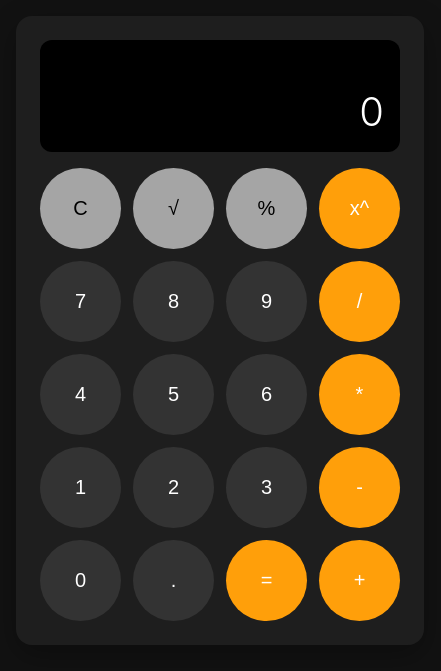
Test: Calculator › should show error message when backend rejects op
Click the button "5" at (174, 394), box left=133, top=354, right=214, bottom=435
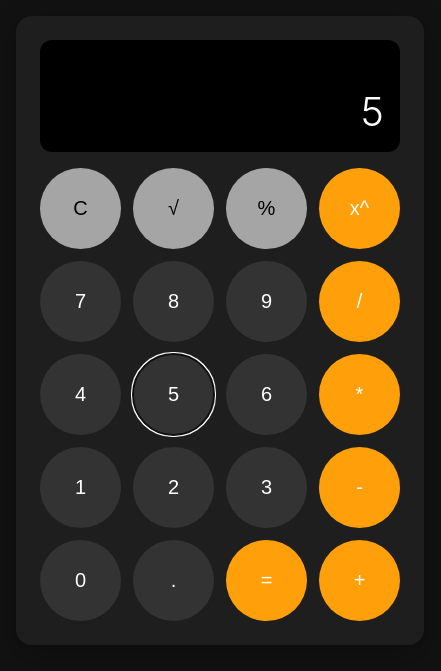
Click the button "/" at (360, 302), box left=319, top=261, right=400, bottom=342
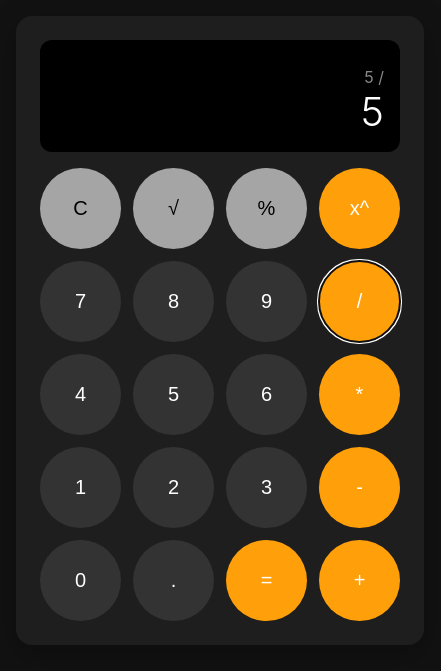
Click the button "0" at (80, 580), box left=40, top=540, right=121, bottom=621
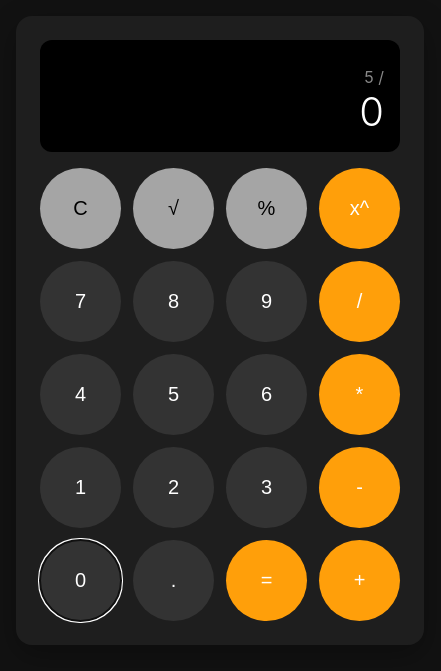
Click the button "=" at (266, 580), box left=226, top=540, right=307, bottom=621
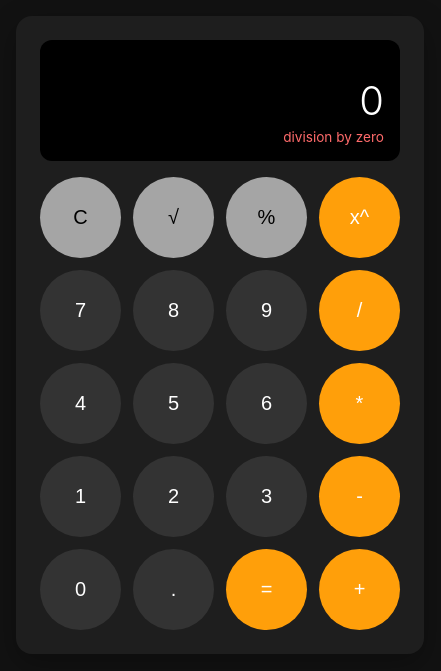
Expected: the text "division by zero" is shown, left=283, top=129, right=384, bottom=145
